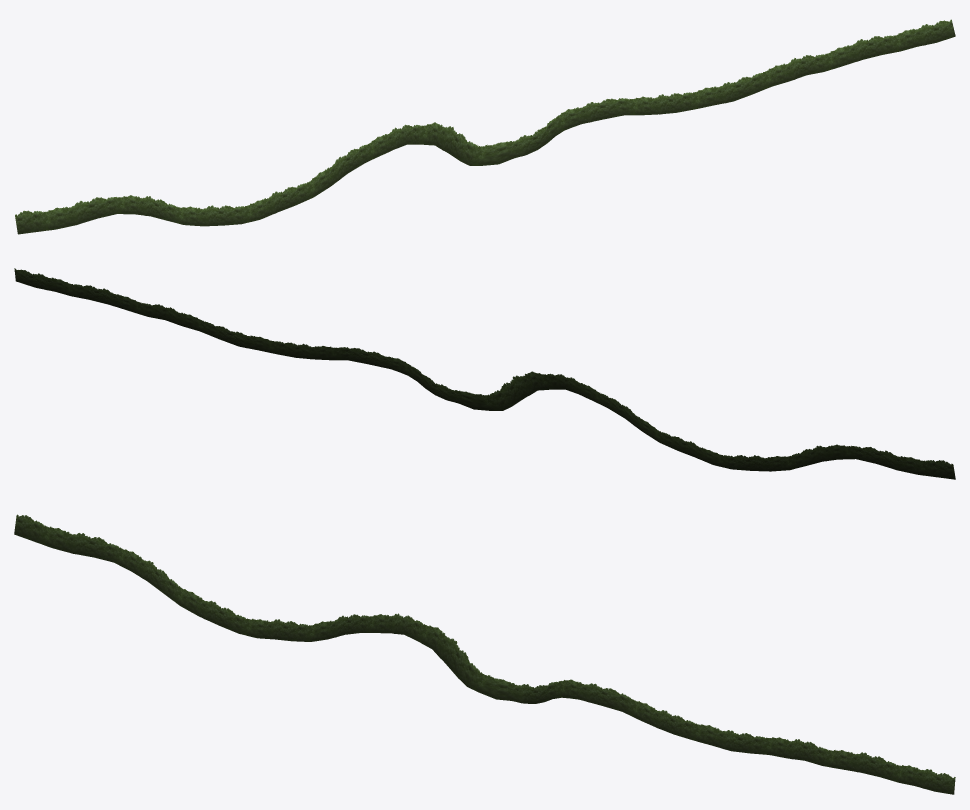
Rendered from Grass Landscape FG.FBX.
3 views of the same model, one above another, from view 1: azimuth 30°, elevation 25°; view 2: azimuth 150°, elevation 25°; view 3: azimuth 330°, elevation 25° (orthographic).
Visible parts, largest first — view 1: LVL1 Grass FG_5, LVL1 Grass FG_1, LVL1 Grass FG_2, LVL1 Grass FG_4, LVL1 Grass FG_3; view 2: LVL1 Grass FG_5, LVL1 Grass FG_1, LVL1 Grass FG_3, LVL1 Grass FG_4, LVL1 Grass FG_2; view 3: LVL1 Grass FG_5, LVL1 Grass FG_1, LVL1 Grass FG_2, LVL1 Grass FG_4, LVL1 Grass FG_3.
Part boxes in pixels (x1,y1,x2,y2): LVL1 Grass FG_5: [691, 19, 955, 109]; LVL1 Grass FG_1: [15, 195, 222, 234]; LVL1 Grass FG_2: [221, 132, 394, 225]; LVL1 Grass FG_4: [521, 92, 693, 154]; LVL1 Grass FG_3: [390, 122, 526, 165]; LVL1 Grass FG_5: [14, 268, 278, 354]; LVL1 Grass FG_1: [747, 444, 955, 479]; LVL1 Grass FG_3: [445, 371, 577, 410]; LVL1 Grass FG_4: [275, 341, 445, 399]; LVL1 Grass FG_2: [577, 381, 750, 470]; LVL1 Grass FG_5: [691, 723, 955, 794]; LVL1 Grass FG_1: [14, 514, 222, 625]; LVL1 Grass FG_2: [219, 607, 392, 641]; LVL1 Grass FG_4: [524, 679, 694, 739]; LVL1 Grass FG_3: [392, 613, 524, 703].
Size of the model in its own units: 18386 by 126 by 1325.
